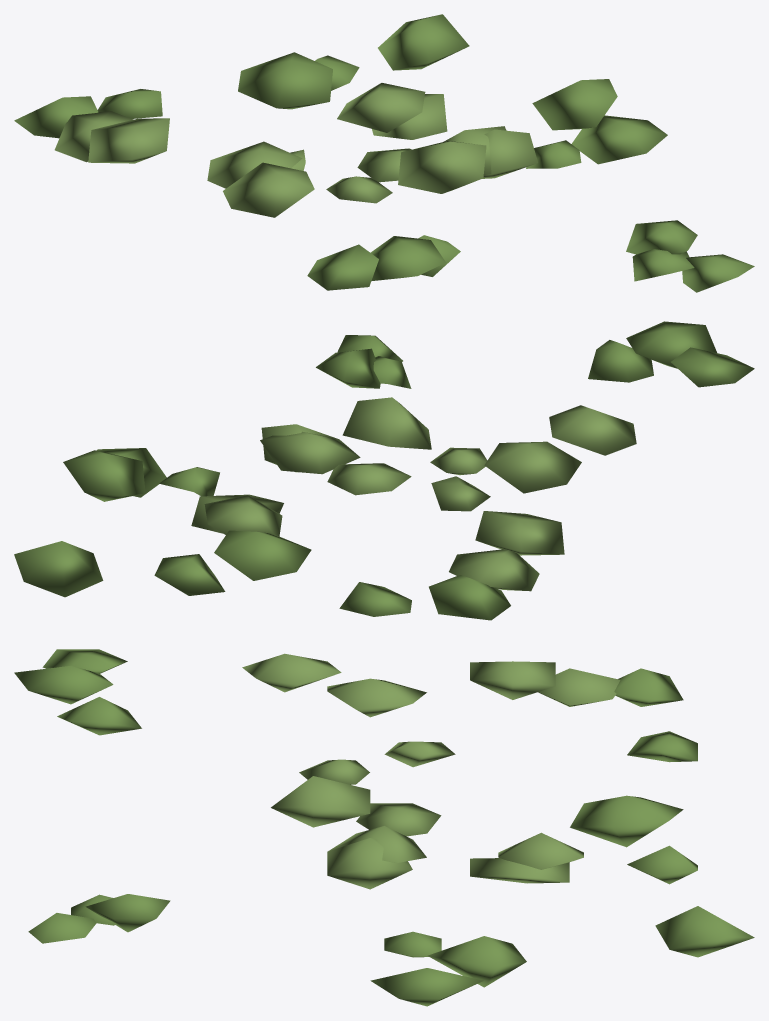
The model's file is canopy-2--1-10.glb.
3 renders of one model, top to bottom at view 1: azimuth 30°, elevation 25°; view 2: azimuth 150°, elevation 25°; view 3: azimuth 270°, elevation 25°, orthographic. The views are drawn at different scales.
Size of the model in its own units: 112 by 27.5 by 130.
Materials: 1 (1 with a texture image).
